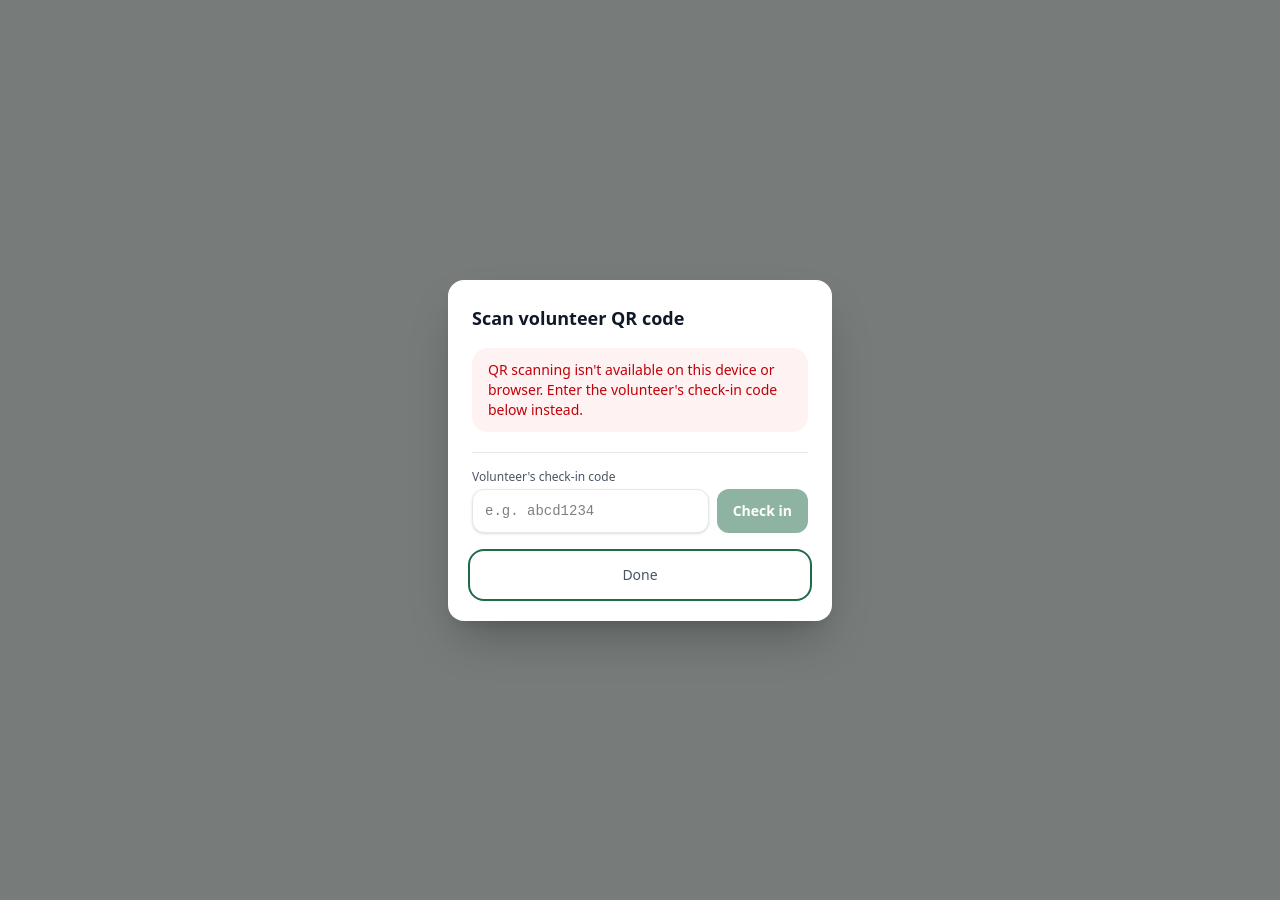
it: QRScannerModal a11y › has no violations after a successful fallback code check-in
The width and height of the screenshot is (1280, 900).
Type "abcd1234" into the field labelled "Volunteer's check-in code" at (590, 510), box x1=472 y1=488 x2=709 y2=532
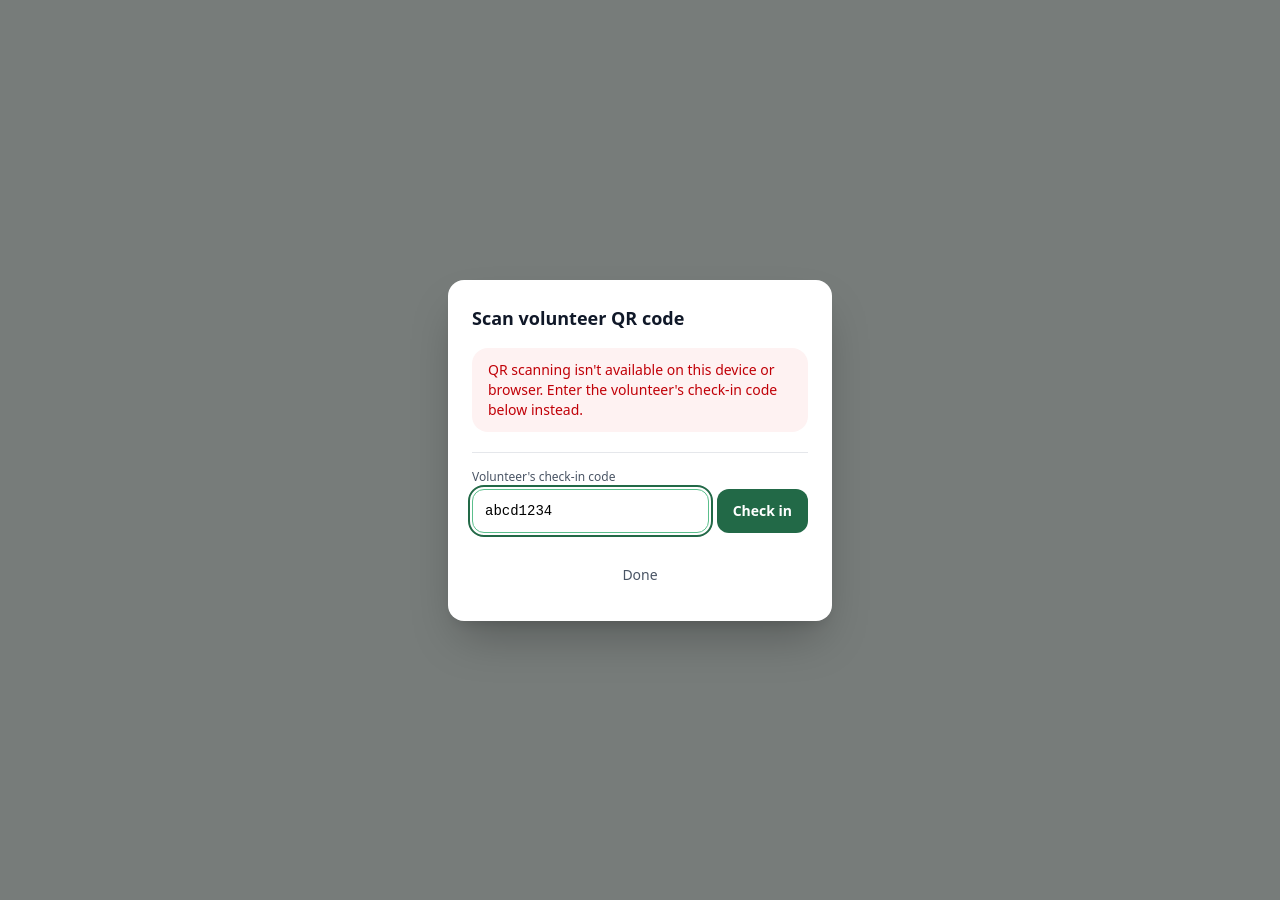
Click the button "Check in" at (762, 510), box x1=717 y1=488 x2=808 y2=532
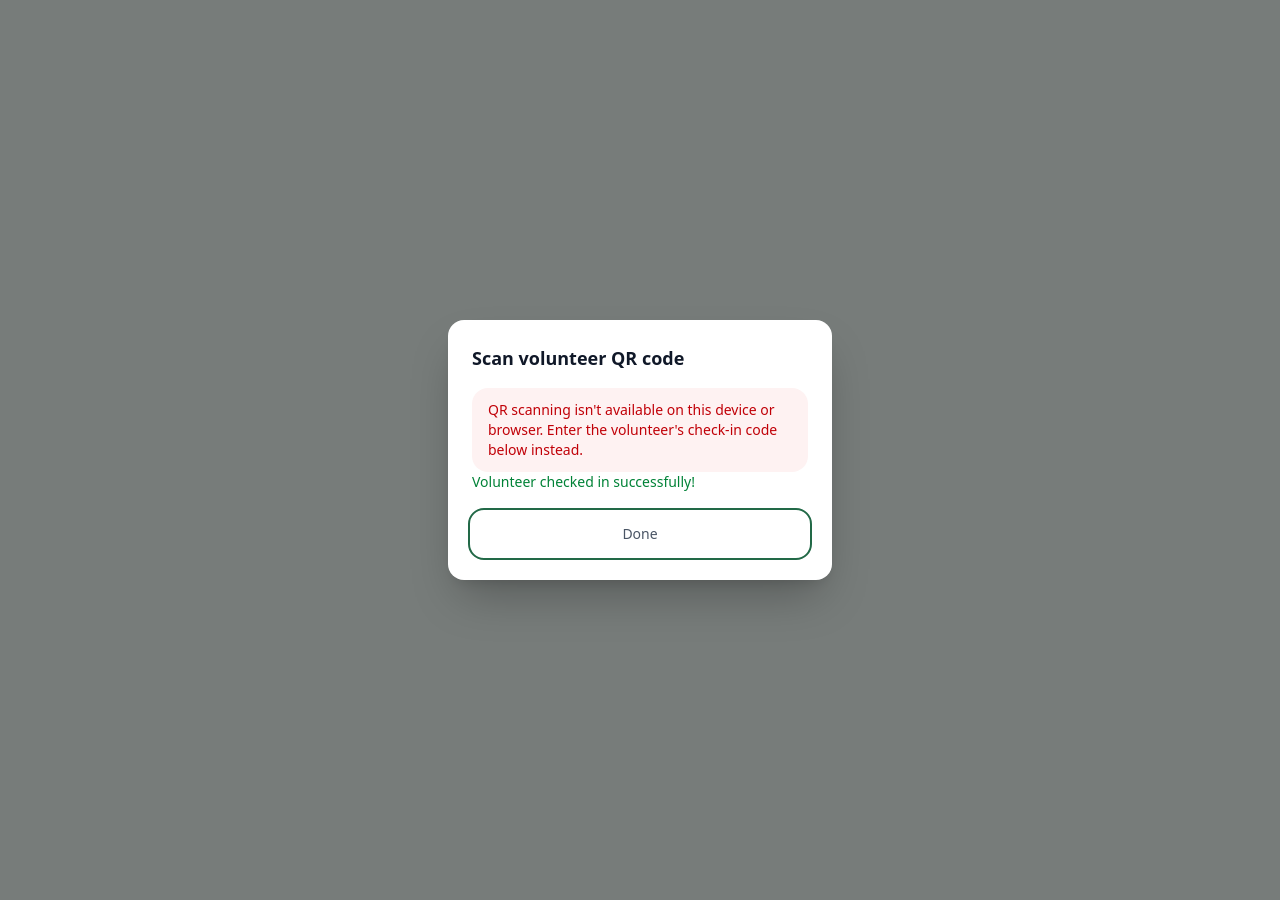
Result: the text "Volunteer checked in successfully!" is shown at x1=472 y1=472 x2=695 y2=491
